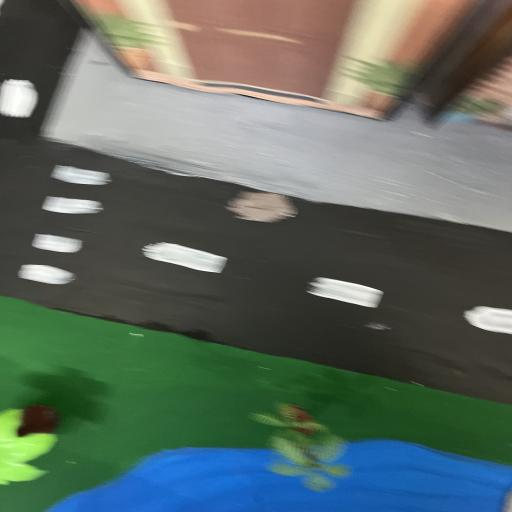porthole: (219, 186, 300, 226)
